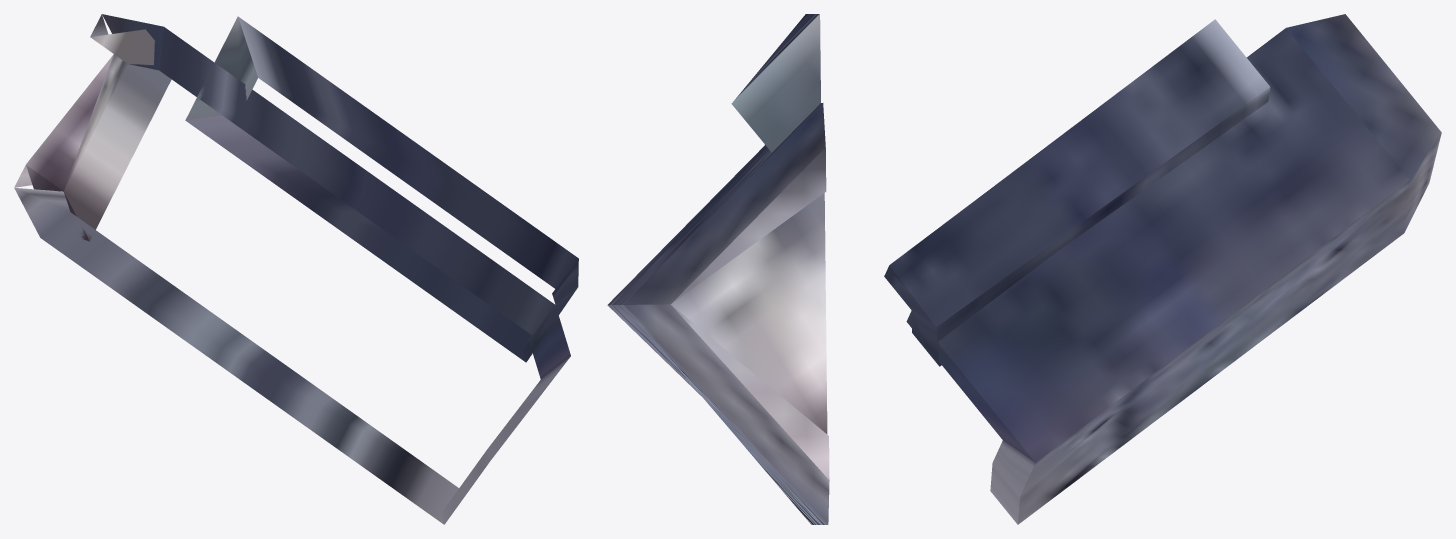
3 views of the same model, side by side, from view 1: azimuth 30°, elevation 25°; view 2: azimuth 150°, elevation 25°; view 3: azimuth 270°, elevation 25° (orthographic). The views are drawn at different scales.
Bounding box in the file's own units: 8.04 × 9.92 × 11.03.
Materials: 1 (1 with a texture image).
